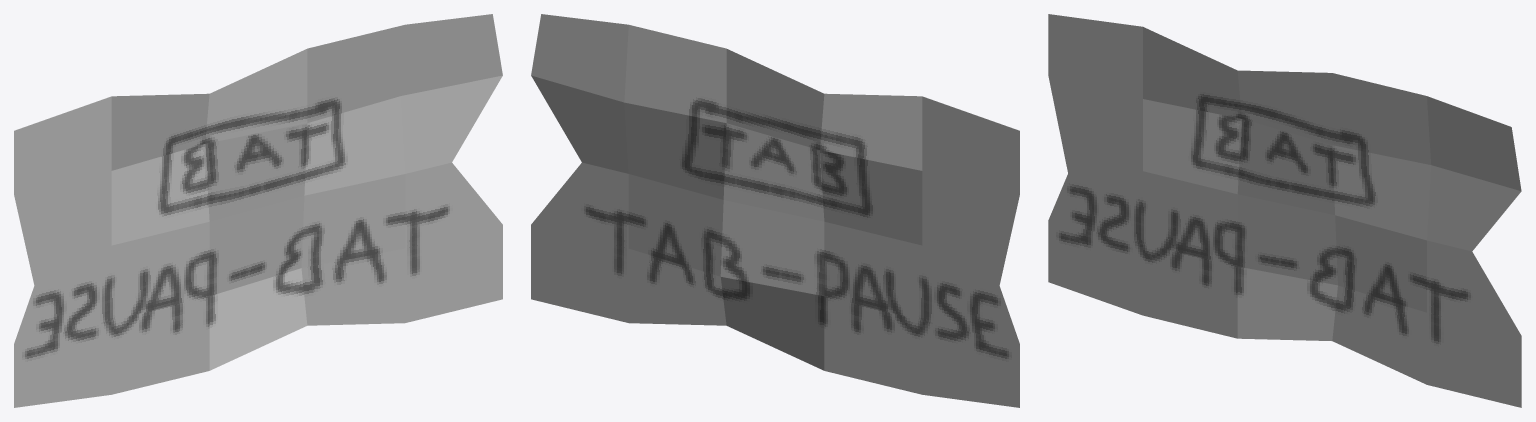
The model's file is tabposter.gltf.
3 renders of one model, left to right at view 1: azimuth 30°, elevation 25°; view 2: azimuth 150°, elevation 25°; view 3: azimuth 330°, elevation 25°, orthographic. The views are drawn at different scales.
Visible parts, largest first — view 1: plane; view 2: plane; view 3: plane.
Boxes of the visible parts, x1,y1,x2,y2 form: plane: (14,14,502,407); plane: (531,14,1019,407); plane: (1048,14,1521,407).
Bounding box in the file's own units: 3 × 1.75 × 0.0625.
1 material, 1 textured.
